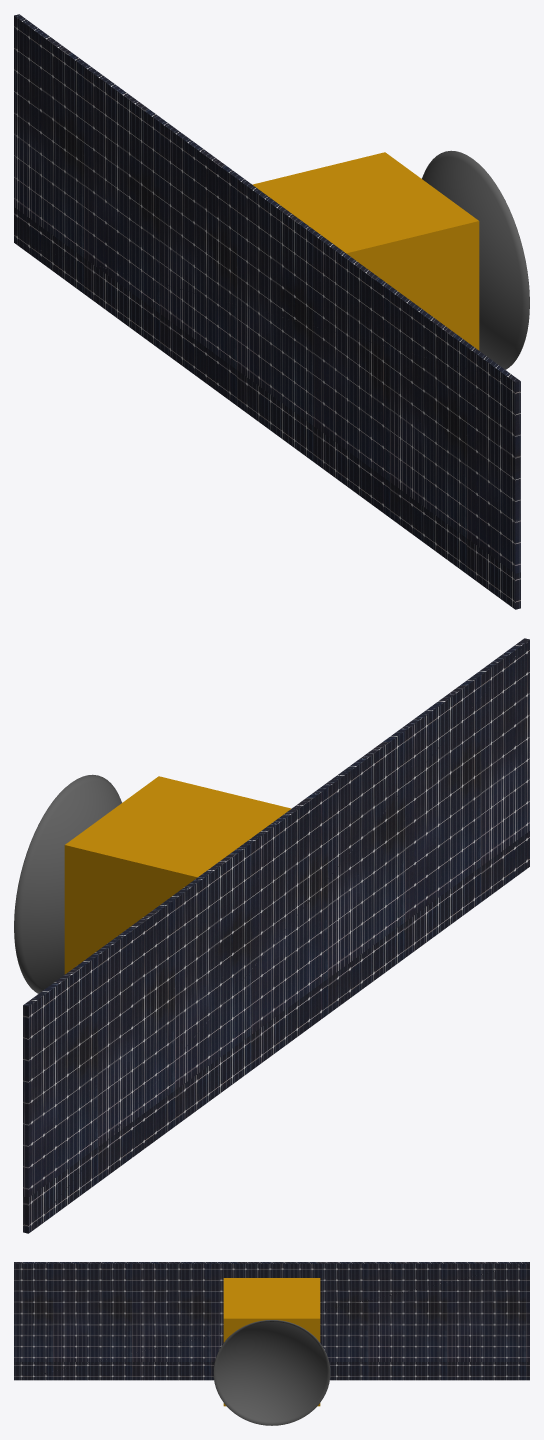
File: Satellite.dae
3 renders of one model, top to bottom at view 1: azimuth 30°, elevation 25°; view 2: azimuth 150°, elevation 25°; view 3: azimuth 270°, elevation 25°, orthographic. The views are drawn at different scales.
Parts seen in each view (by area): view 1: Panel, Cube, NurbsCurve; view 2: Panel, Cube, NurbsCurve; view 3: Panel, NurbsCurve, Cube.
Boxes of the visible parts, x1=… form: Panel: x1=14, y1=14, x2=520, y2=609; Cube: x1=252, y1=152, x2=479, y2=350; NurbsCurve: x1=422, y1=150, x2=529, y2=369; Panel: x1=23, y1=638, x2=529, y2=1233; Cube: x1=64, y1=776, x2=291, y2=974; NurbsCurve: x1=14, y1=774, x2=121, y2=993; Panel: x1=14, y1=1262, x2=529, y2=1380; NurbsCurve: x1=213, y1=1320, x2=330, y2=1425; Cube: x1=223, y1=1278, x2=320, y2=1406.
Size of the model in its own units: 1.92 by 8 by 2.
Materials: 3 (2 with a texture image).
